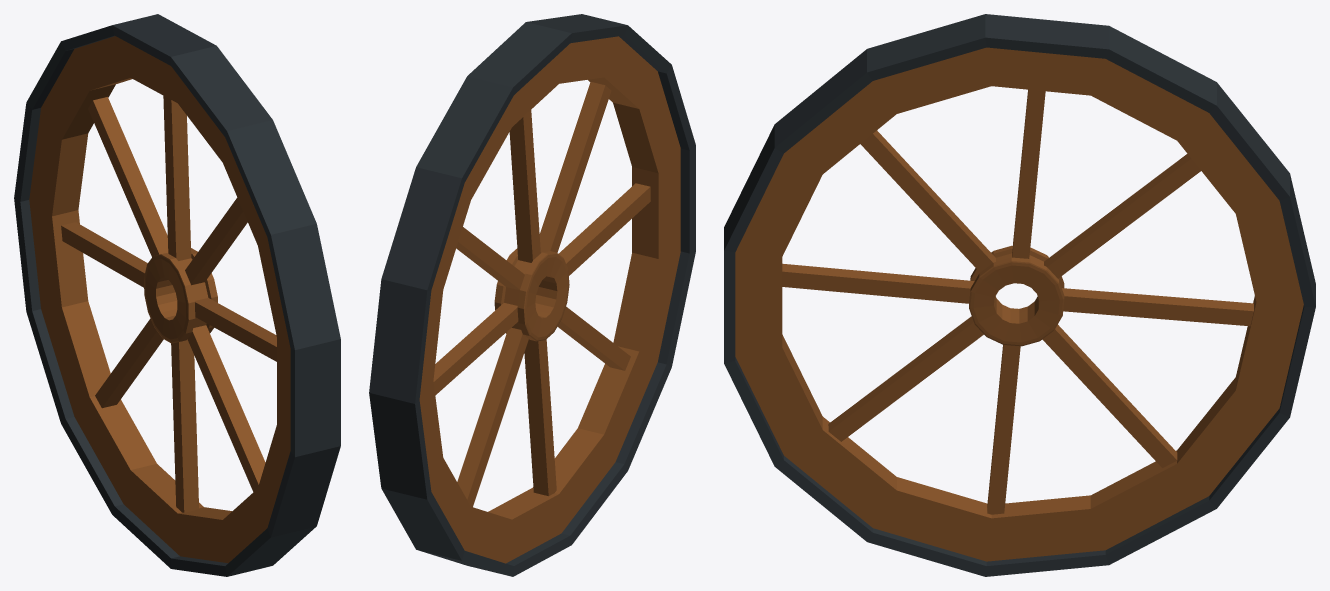
The model's file is WagonWheel.fbx.
The picture shows the model from 3 angles, left to right: view 1: azimuth 30°, elevation 25°; view 2: azimuth 150°, elevation 25°; view 3: azimuth 270°, elevation 25°; orthographic projection. The views are drawn at different scales.
Parts seen in each view (by area): view 1: Cylinder; view 2: Cylinder; view 3: Cylinder.
Boxes of the visible parts, box(x1,y1,x2,y2) form: Cylinder: box(14, 14, 340, 576); Cylinder: box(369, 14, 695, 576); Cylinder: box(724, 14, 1315, 576).
Bounding box in the file's own units: 7.65 × 81.43 × 80.99.
